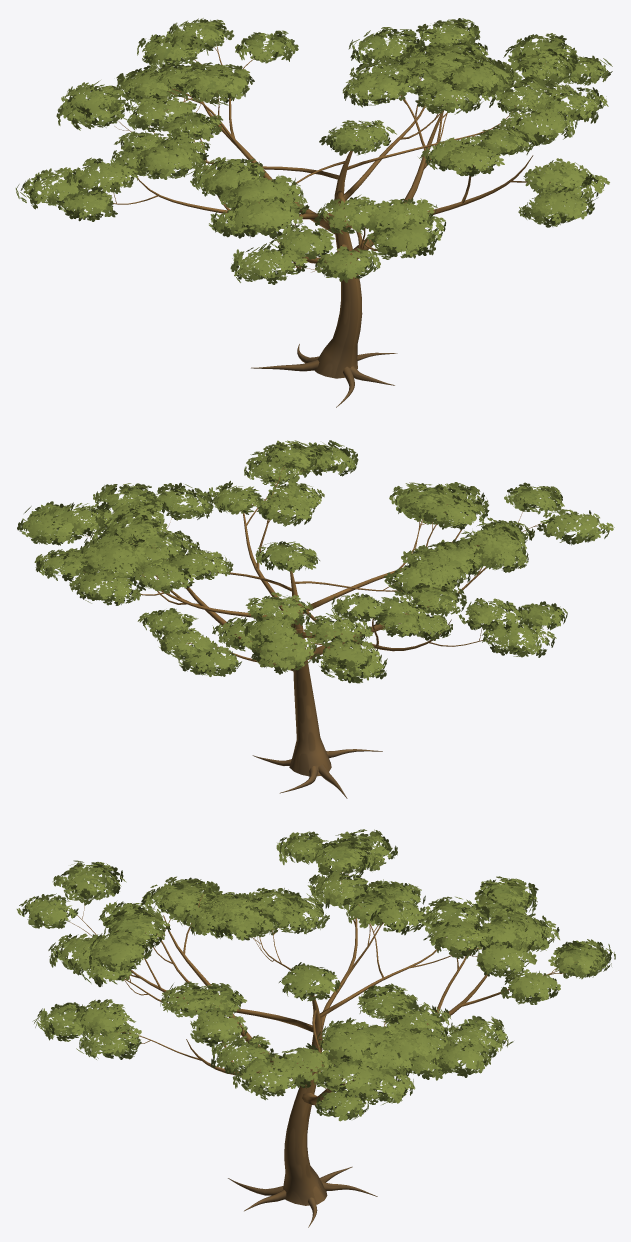
Rendered from tree.gltf.
3 renders of one model, top to bottom at view 1: azimuth 30°, elevation 25°; view 2: azimuth 150°, elevation 25°; view 3: azimuth 270°, elevation 25°, orthographic. The views are drawn at different scales.
Parts seen in each view (by area): view 1: Tree_LOD0; view 2: Tree_LOD0; view 3: Tree_LOD0.
Part boxes in pixels (<box>): Tree_LOD0: <box>15,18,612,407</box>; Tree_LOD0: <box>17,440,614,798</box>; Tree_LOD0: <box>16,829,615,1227</box>.
Size of the model in its own units: 35.84 by 14.75 by 31.82.
2 materials, 2 textured.
